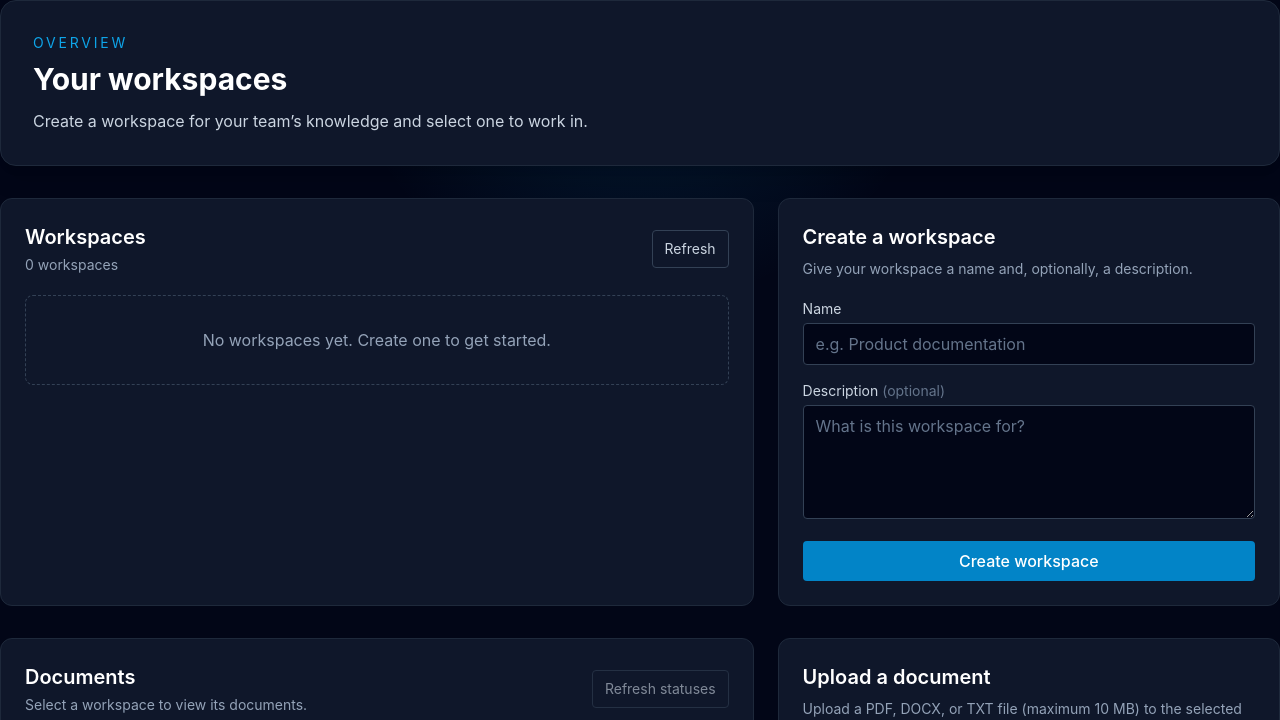
Test: DashboardPage › creates a workspace and selects it
The width and height of the screenshot is (1280, 720).
Expected: the text "No workspaces yet. Create one to get started." is shown, [25, 295, 729, 385]
Type "Research" into the field labelled "Name".
click(1029, 344); type("Research")  # box [803, 323, 1255, 365]
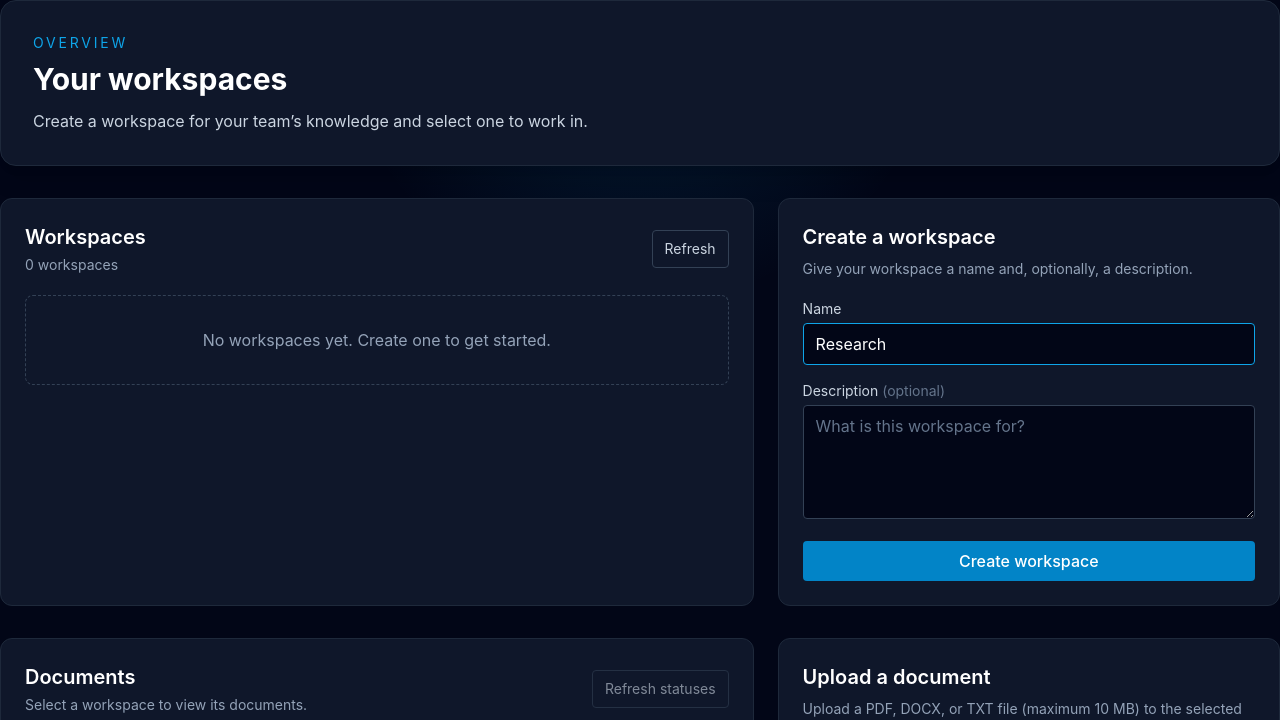
Type "Research documents" into the text box labelled "Description (optional)".
click(1029, 462); type("Research documents")  # box [803, 405, 1255, 519]
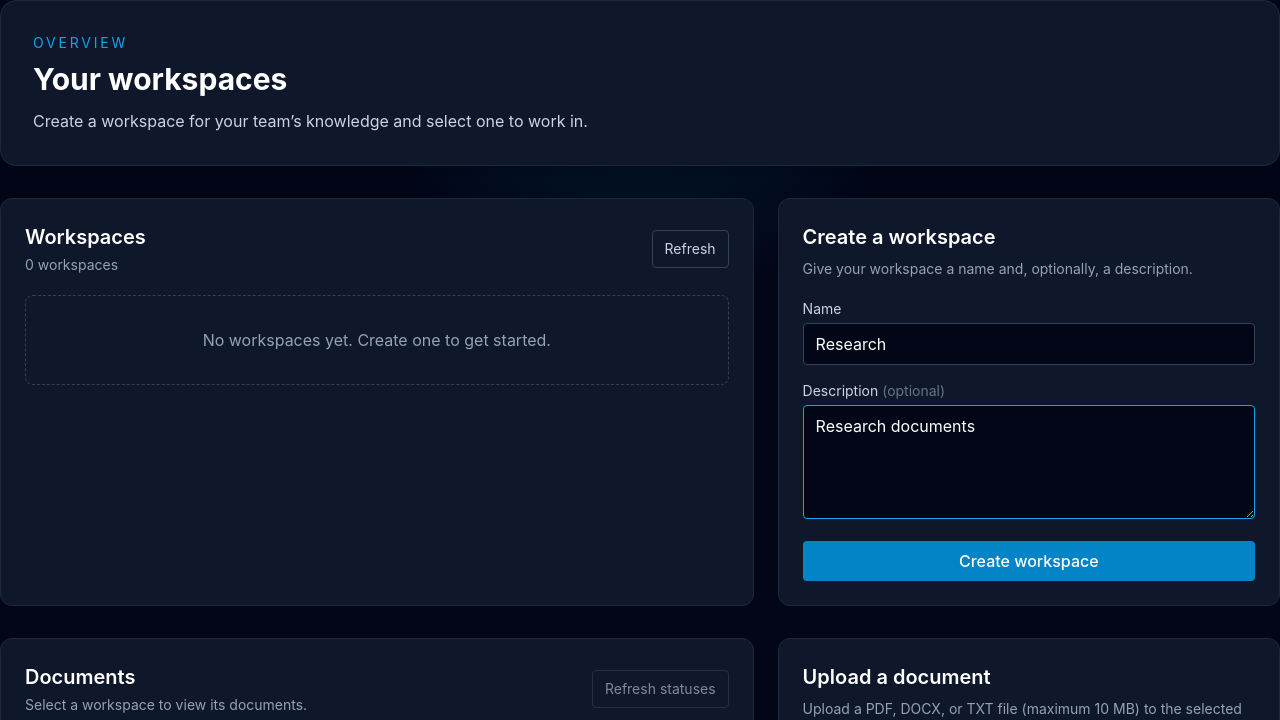
Click the button "Create workspace".
click(1029, 561)  # box [803, 541, 1255, 581]
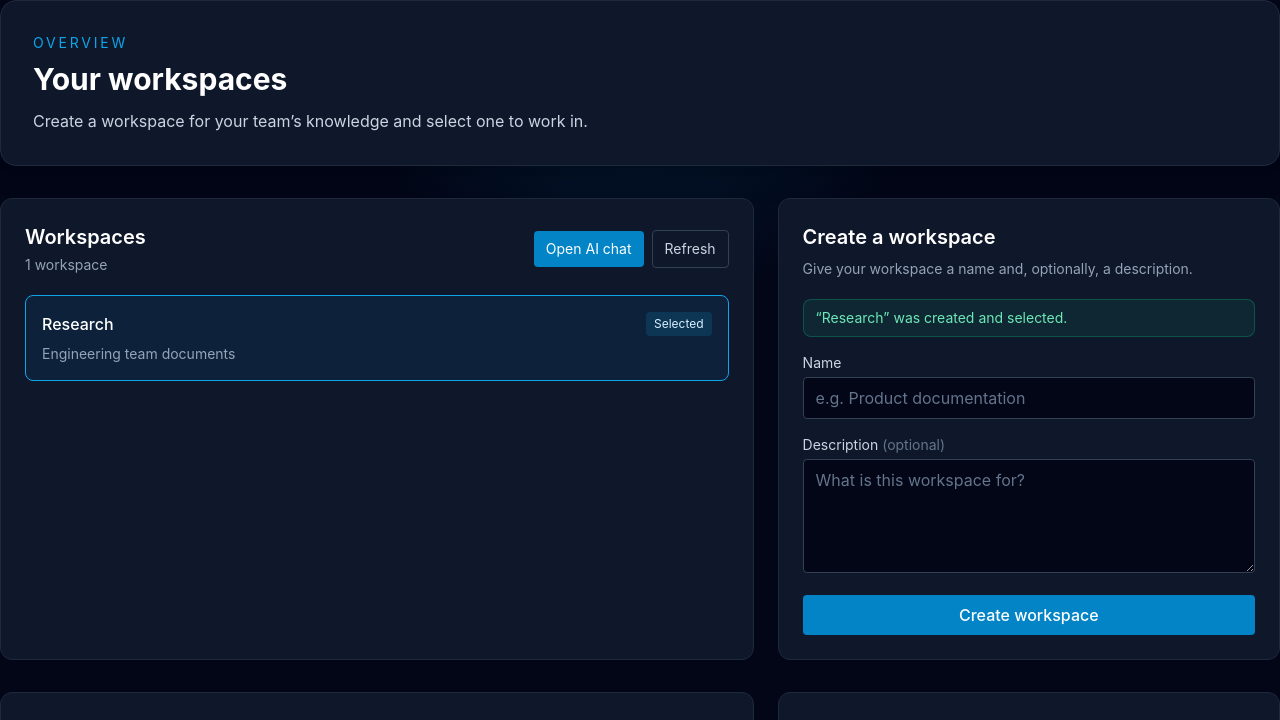
Expected: the message shows "Research” was created and selected.", [816, 309, 1067, 326]
